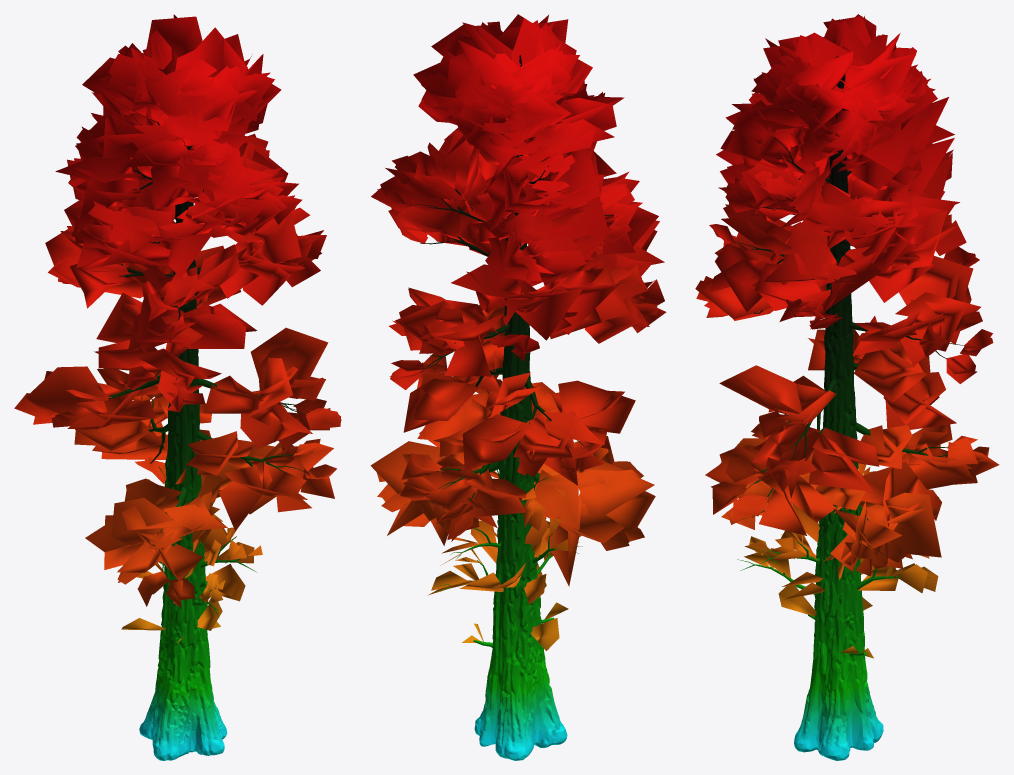
The model's file is Sequoia4.fbx.
3 renders of one model, left to right at view 1: azimuth 30°, elevation 25°; view 2: azimuth 150°, elevation 25°; view 3: azimuth 270°, elevation 25°, orthographic.
Parts seen in each view (by area): view 1: Sequoia4_LOD0; view 2: Sequoia4_LOD0; view 3: Sequoia4_LOD0.
Part boxes in pixels (bbox=[...]): Sequoia4_LOD0: bbox=[14, 14, 341, 760]; Sequoia4_LOD0: bbox=[370, 14, 666, 760]; Sequoia4_LOD0: bbox=[695, 14, 999, 760].
Size of what is drawn, in the model's own units: 1607 by 4118 by 1589.
